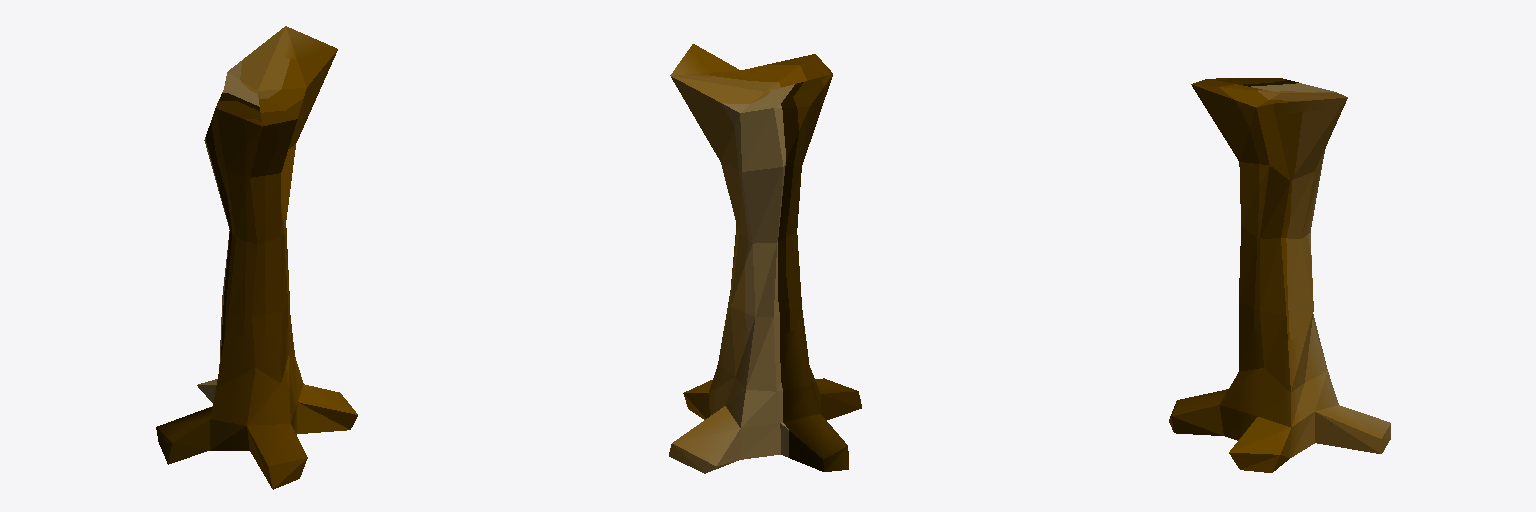
The picture shows the model from 3 angles: view 1: azimuth 30°, elevation 25°; view 2: azimuth 150°, elevation 25°; view 3: azimuth 270°, elevation 25°; orthographic projection.
Visible parts, largest first — view 1: Trunk; view 2: Trunk; view 3: Trunk.
Boxes of the visible parts, box(x1,y1,x2,y2) form: Trunk: box(156, 26, 357, 489); Trunk: box(669, 44, 861, 473); Trunk: box(1169, 78, 1390, 472).
Bounding box in the file's own units: 62.91 × 135 × 71.65.
1 materials, 1 textured.